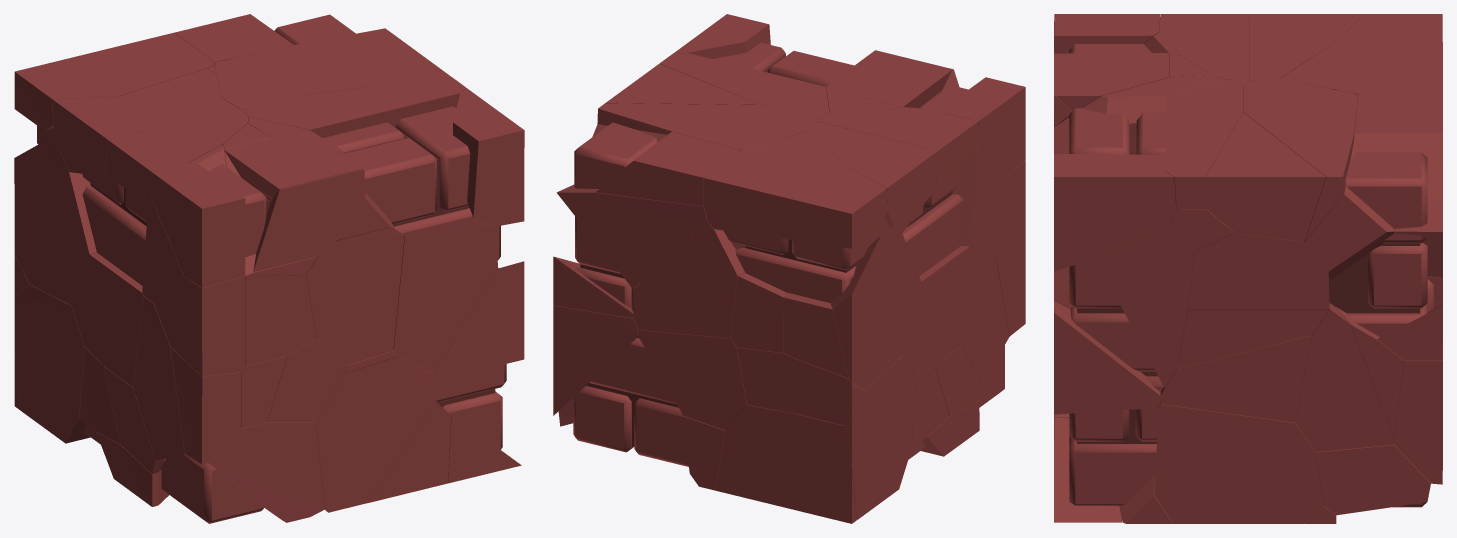
Rendered from cube_broken.glb.
3 views of the same model, side by side, from view 1: azimuth 30°, elevation 25°; view 2: azimuth 150°, elevation 25°; view 3: azimuth 270°, elevation 25° (orthographic). The views are drawn at different scales.
Parts seen in each view (by area): view 1: Cube_Bricks_cell.013, Cube_Bricks_cell.014, Cube_Bricks_cell.045, Cube_Bricks_cell.065, Cube_Bricks_cell.062, Cube_Bricks_cell.049, Cube_Bricks_cell.092, Cube_Bricks_cell.086, Cube_Bricks_cell.055, Cube_Bricks_cell.043, Cube_Bricks_cell.024, Cube_Bricks_cell.074 (+35 smaller); view 2: Cube_Bricks_cell.086, Cube_Bricks_cell.042, Cube_Bricks_cell.022, Cube_Bricks_cell.062, Cube_Bricks_cell.024, Cube_Bricks_cell.031, Cube_Bricks_cell.049, Cube_Bricks_cell.057, Cube_Bricks_cell.002, Cube_Bricks_cell.055, Cube_Bricks_cell.025, Cube_Bricks_cell.058 (+36 smaller); view 3: Cube_Bricks_cell.038, Cube_Bricks_cell.012, Cube_Bricks_cell.043, Cube_Bricks_cell.053, Cube_Bricks_cell.019, Cube_Bricks_cell.041, Cube_Bricks_cell.077, Cube_Bricks_cell.002, Cube_Bricks_cell.086, Cube_Bricks_cell.074, Cube_Bricks_cell.050, Cube_Bricks_cell.025 (+30 smaller).
Part boxes in pixels (<box>): Cube_Bricks_cell.013: <box>316,356,437,512</box>; Cube_Bricks_cell.014: <box>393,218,497,373</box>; Cube_Bricks_cell.045: <box>161,422,324,522</box>; Cube_Bricks_cell.065: <box>306,227,404,365</box>; Cube_Bricks_cell.062: <box>14,140,96,305</box>; Cube_Bricks_cell.049: <box>14,128,438,443</box>; Cube_Bricks_cell.092: <box>150,163,245,287</box>; Cube_Bricks_cell.086: <box>14,32,214,198</box>; Cube_Bricks_cell.055: <box>105,108,266,256</box>; Cube_Bricks_cell.043: <box>267,88,524,260</box>; Cube_Bricks_cell.024: <box>46,96,237,202</box>; Cube_Bricks_cell.074: <box>434,261,524,402</box>; Cube_Bricks_cell.086: <box>704,149,922,269</box>; Cube_Bricks_cell.042: <box>715,405,856,523</box>; Cube_Bricks_cell.022: <box>633,223,855,338</box>; Cube_Bricks_cell.062: <box>830,226,920,390</box>; Cube_Bricks_cell.024: <box>792,121,937,270</box>; Cube_Bricks_cell.031: <box>556,184,824,288</box>; Cube_Bricks_cell.049: <box>776,56,915,519</box>; Cube_Bricks_cell.057: <box>638,330,746,430</box>; Cube_Bricks_cell.002: <box>597,103,818,150</box>; Cube_Bricks_cell.055: <box>817,85,989,208</box>; Cube_Bricks_cell.025: <box>580,131,839,277</box>; Cube_Bricks_cell.058: <box>553,305,638,415</box>; Cube_Bricks_cell.038: <box>1069,402,1426,523</box>; Cube_Bricks_cell.012: <box>1186,152,1427,315</box>; Cube_Bricks_cell.043: <box>1054,154,1417,443</box>; Cube_Bricks_cell.053: <box>1071,307,1421,422</box>; Cube_Bricks_cell.019: <box>1113,112,1325,241</box>; Cube_Bricks_cell.041: <box>1295,303,1427,452</box>; Cube_Bricks_cell.077: <box>1096,228,1194,387</box>; Cube_Bricks_cell.002: <box>1243,79,1357,241</box>; Cube_Bricks_cell.086: <box>1077,14,1442,312</box>; Cube_Bricks_cell.074: <box>1054,300,1160,441</box>; Cube_Bricks_cell.050: <box>1165,79,1243,209</box>; Cube_Bricks_cell.025: <box>1078,95,1442,443</box>.
Bounding box in the file's own units: 2.15 × 2.13 × 2.16.
